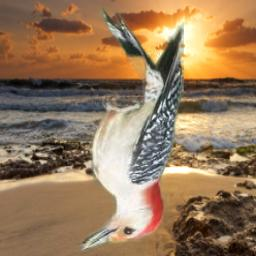Woodpecker: (72, 7, 183, 253)
